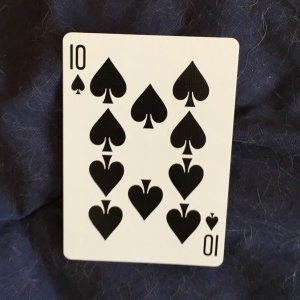card: (58, 29, 241, 271)
